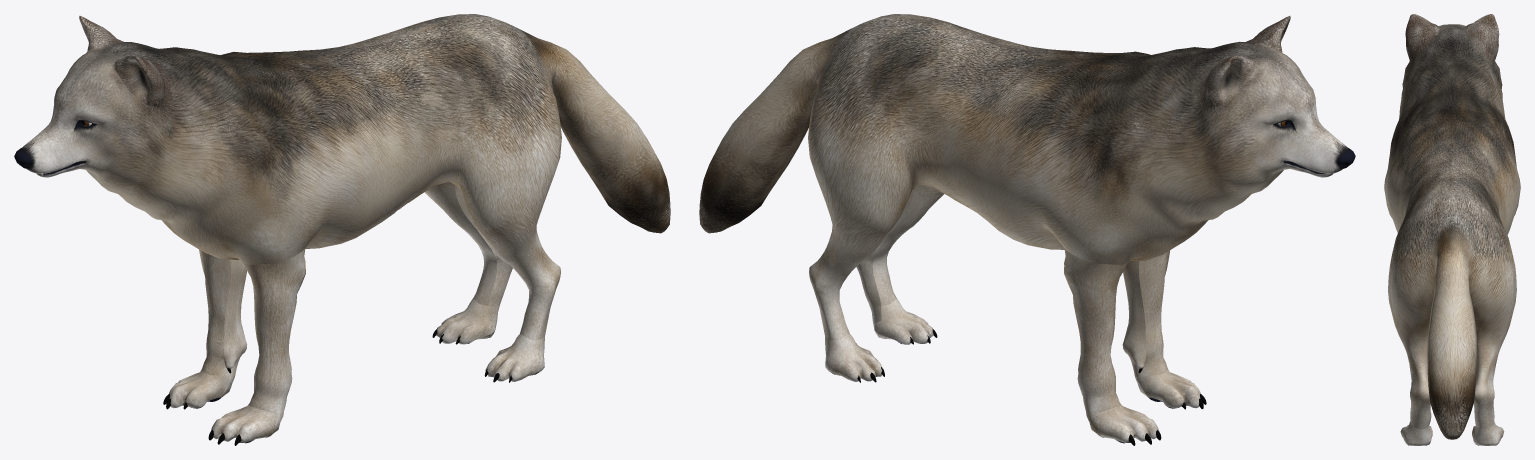
The picture shows the model from 3 angles, left to right: view 1: azimuth 30°, elevation 25°; view 2: azimuth 150°, elevation 25°; view 3: azimuth 270°, elevation 25°; orthographic projection. The views are drawn at different scales.
Visible parts, largest first — view 1: Animal; view 2: Animal; view 3: Animal.
Boxes of the visible parts, x1=… form: Animal: x1=14, y1=14, x2=670, y2=445; Animal: x1=699, y1=14, x2=1355, y2=445; Animal: x1=1384, y1=14, x2=1520, y2=445.
Size of the model in its own units: 3.2 by 1.93 by 0.8174.
Materials: 1 (1 with a texture image).
